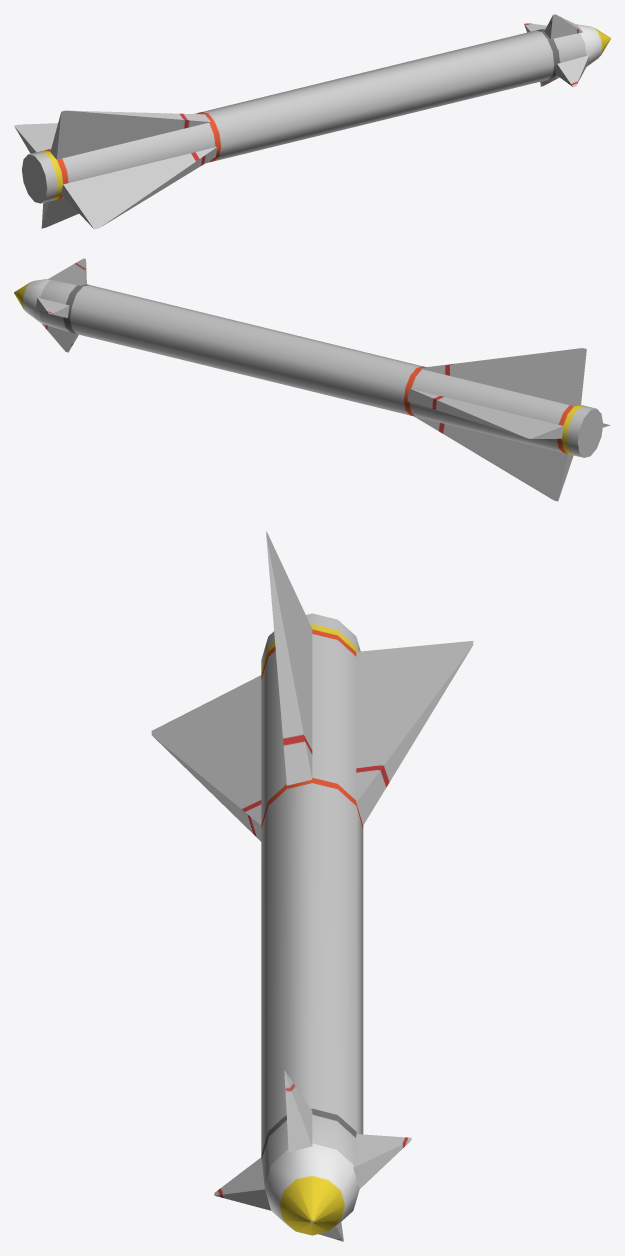
File: rocket.fbx
3 renders of one model, top to bottom at view 1: azimuth 30°, elevation 25°; view 2: azimuth 150°, elevation 25°; view 3: azimuth 270°, elevation 25°, orthographic. The views are drawn at different scales.
Visible parts, largest first — view 1: Cylinder; view 2: Cylinder; view 3: Cylinder.
Part boxes in pixels (x1,y1,x2,y2): Cylinder: (14,14,610,229); Cylinder: (14,258,610,501); Cylinder: (151,531,473,1241).
Size of the model in its own units: 781 by 176 by 189.
